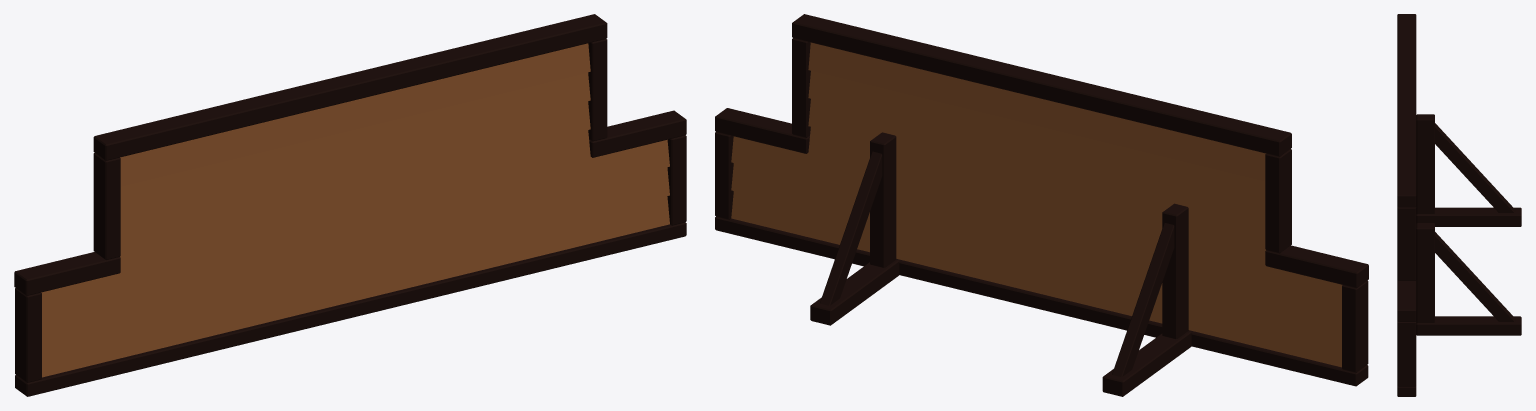
The model's file is ww_sign_c.glb.
3 renders of one model, left to right at view 1: azimuth 30°, elevation 25°; view 2: azimuth 150°, elevation 25°; view 3: azimuth 270°, elevation 25°, orthographic. The views are drawn at different scales.
Visible parts, largest first — view 1: Sign_C; view 2: Sign_C; view 3: Sign_C.
Part boxes in pixels (x1,y1,x2,y2): Sign_C: [14, 14, 686, 396]; Sign_C: [715, 14, 1368, 396]; Sign_C: [1397, 14, 1521, 396].
Bounding box in the file's own units: 10.56 × 3.56 × 2.32.
